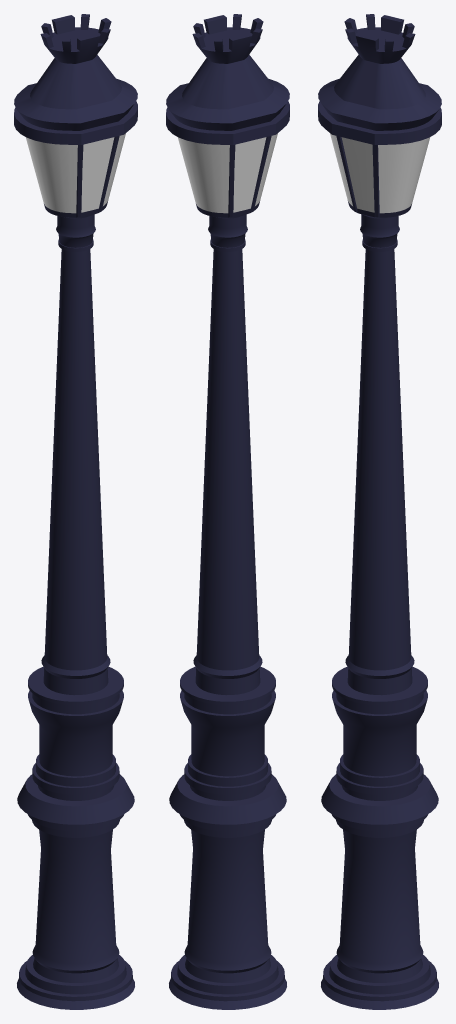
File: unlamba.fbx
3 views of the same model, side by side, from view 1: azimuth 30°, elevation 25°; view 2: azimuth 210°, elevation 25°; view 3: azimuth 330°, elevation 25° (orthographic).
Visible parts, largest first — view 1: Circle; view 2: Circle; view 3: Circle.
Boxes of the visible parts, bbox=[...] form: Circle: bbox=[14, 14, 137, 1009]; Circle: bbox=[166, 14, 289, 1009]; Circle: bbox=[318, 14, 441, 1009].
Bounding box in the file's own units: 61.02 × 501 × 56.24.
